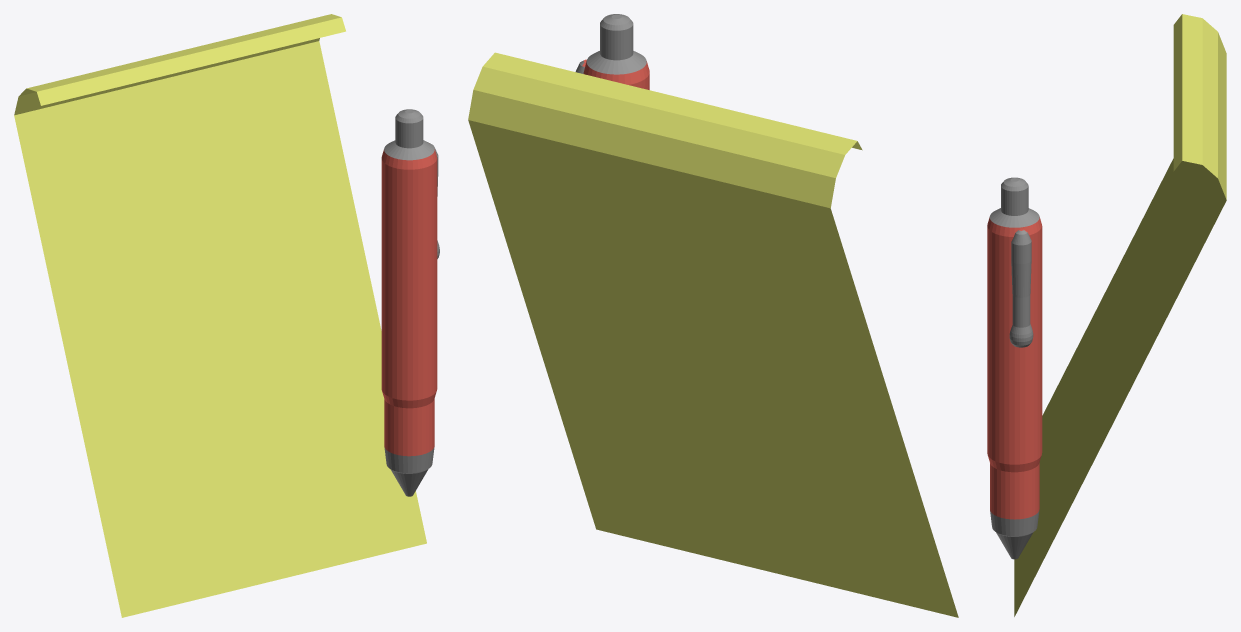
File: PenAndPaper.fbx
The picture shows the model from 3 angles, left to right: view 1: azimuth 30°, elevation 25°; view 2: azimuth 150°, elevation 25°; view 3: azimuth 270°, elevation 25°; orthographic projection. The views are drawn at different scales.
Parts seen in each view (by area): view 1: Cylinder.001; view 2: Cylinder.001; view 3: Cylinder.001.
Part boxes in pixels (<box>): Cylinder.001: <box>14,14,439,617</box>; Cylinder.001: <box>468,14,958,617</box>; Cylinder.001: <box>987,14,1226,616</box>.
Bounding box in the file's own units: 663 × 918 × 436.
